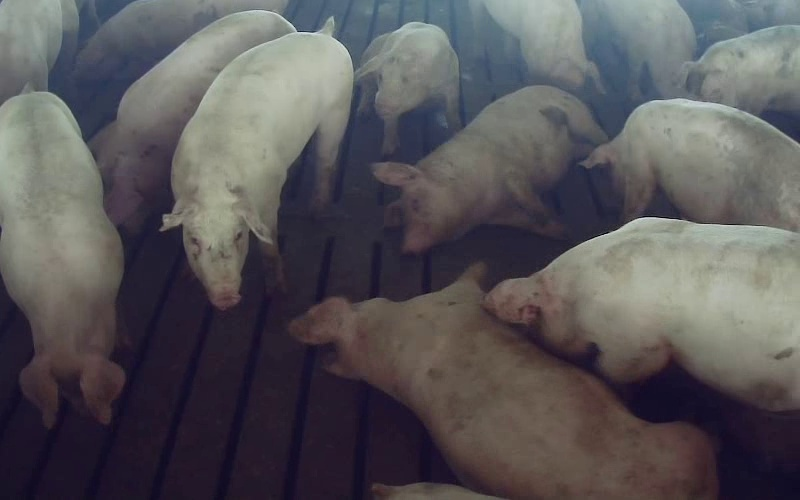pig: (289, 264, 716, 499), (484, 218, 799, 410), (162, 19, 353, 309), (89, 11, 294, 231), (373, 86, 606, 252), (582, 99, 799, 230), (75, 0, 287, 78), (355, 22, 460, 154), (469, 0, 604, 92), (580, 0, 695, 99), (679, 26, 799, 115)
